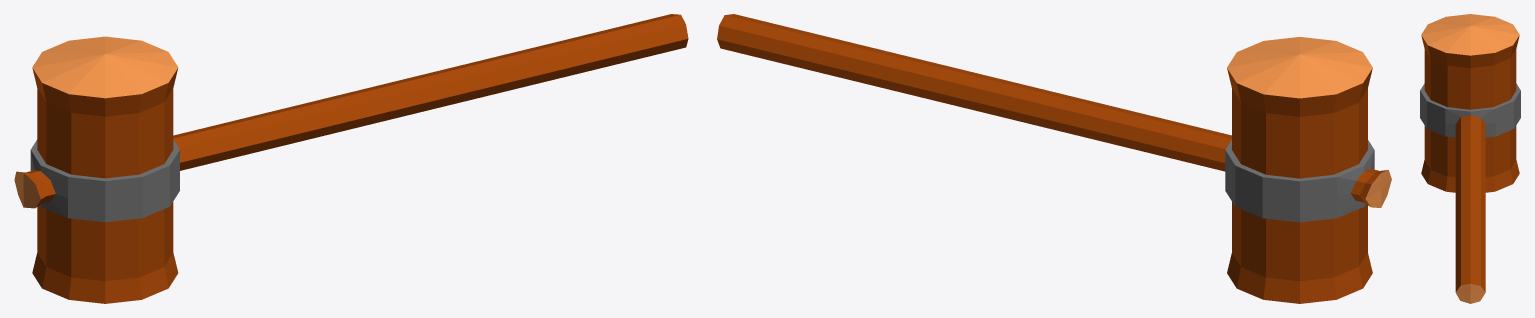
The model's file is Hammer.fbx.
3 renders of one model, left to right at view 1: azimuth 30°, elevation 25°; view 2: azimuth 150°, elevation 25°; view 3: azimuth 270°, elevation 25°, orthographic. The views are drawn at different scales.
Parts seen in each view (by area): view 1: Hammer; view 2: Hammer; view 3: Hammer.
Part boxes in pixels (x1=…): Hammer: x1=14, y1=14, x2=688, y2=303; Hammer: x1=717, y1=14, x2=1391, y2=303; Hammer: x1=1420, y1=14, x2=1520, y2=303.
Bounding box in the file's own units: 167 × 56.35 × 32.9.
